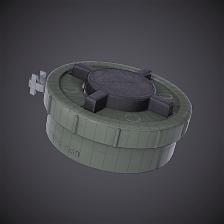PMN2: (20, 58, 202, 186)
